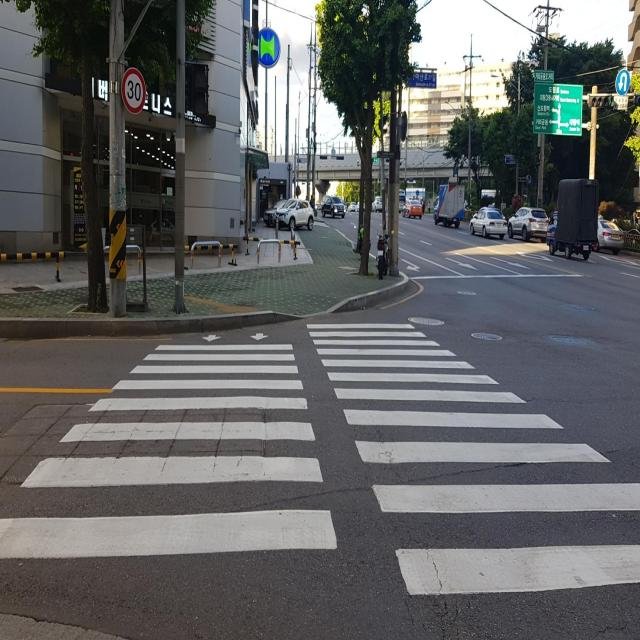횡단보도: (0, 320, 640, 603)
